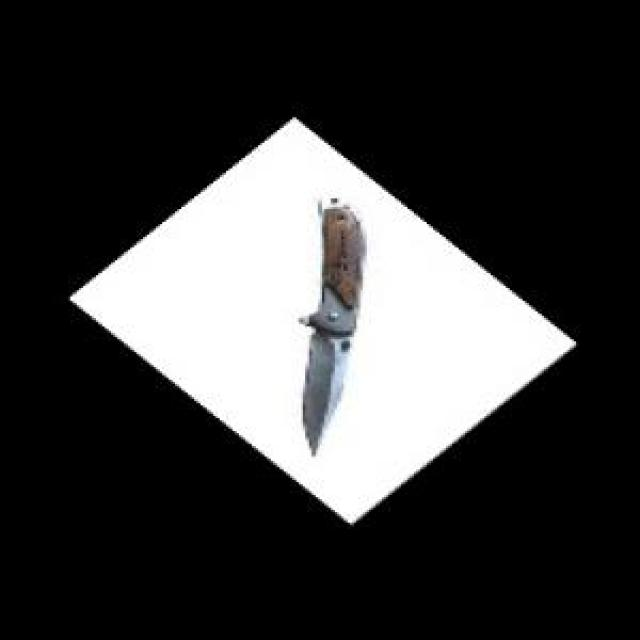knife: (299, 190, 374, 467)
